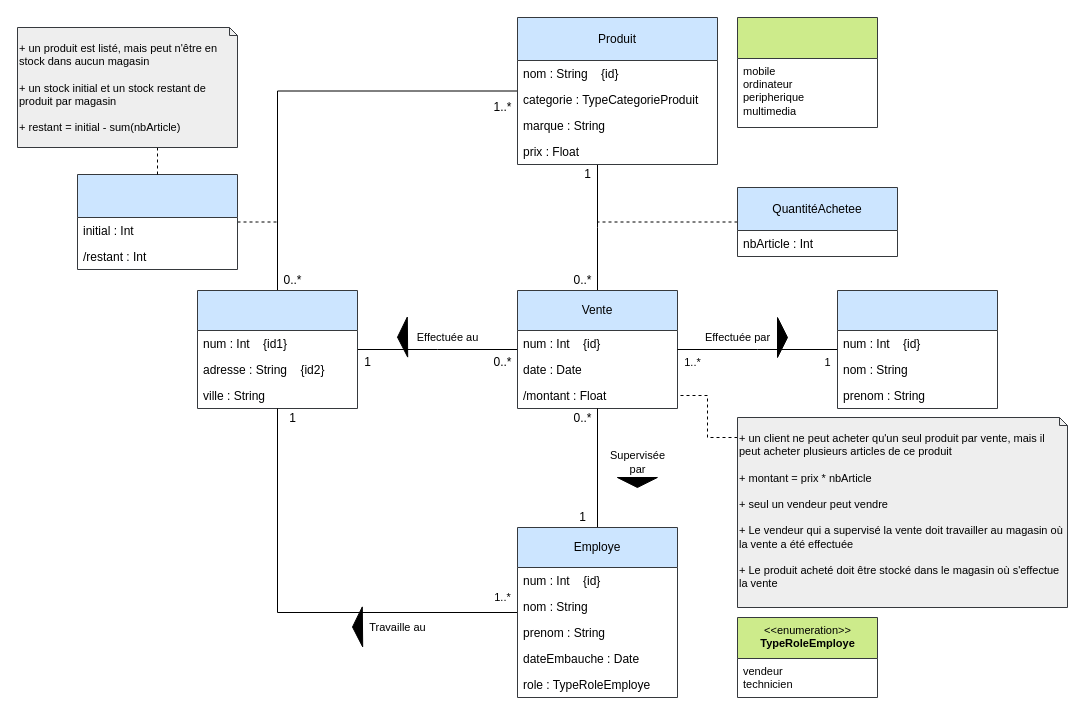
Some shapes in this 1085 by 718 pixel diagram are drawn without their labels. Each missing label, with the box of its shape:
<<enumeration>> TypeCategorieProduit: (736, 16, 878, 128)
Client: (836, 290, 998, 408)
Magasin: (196, 290, 358, 408)
StockProduit: (76, 174, 238, 270)
